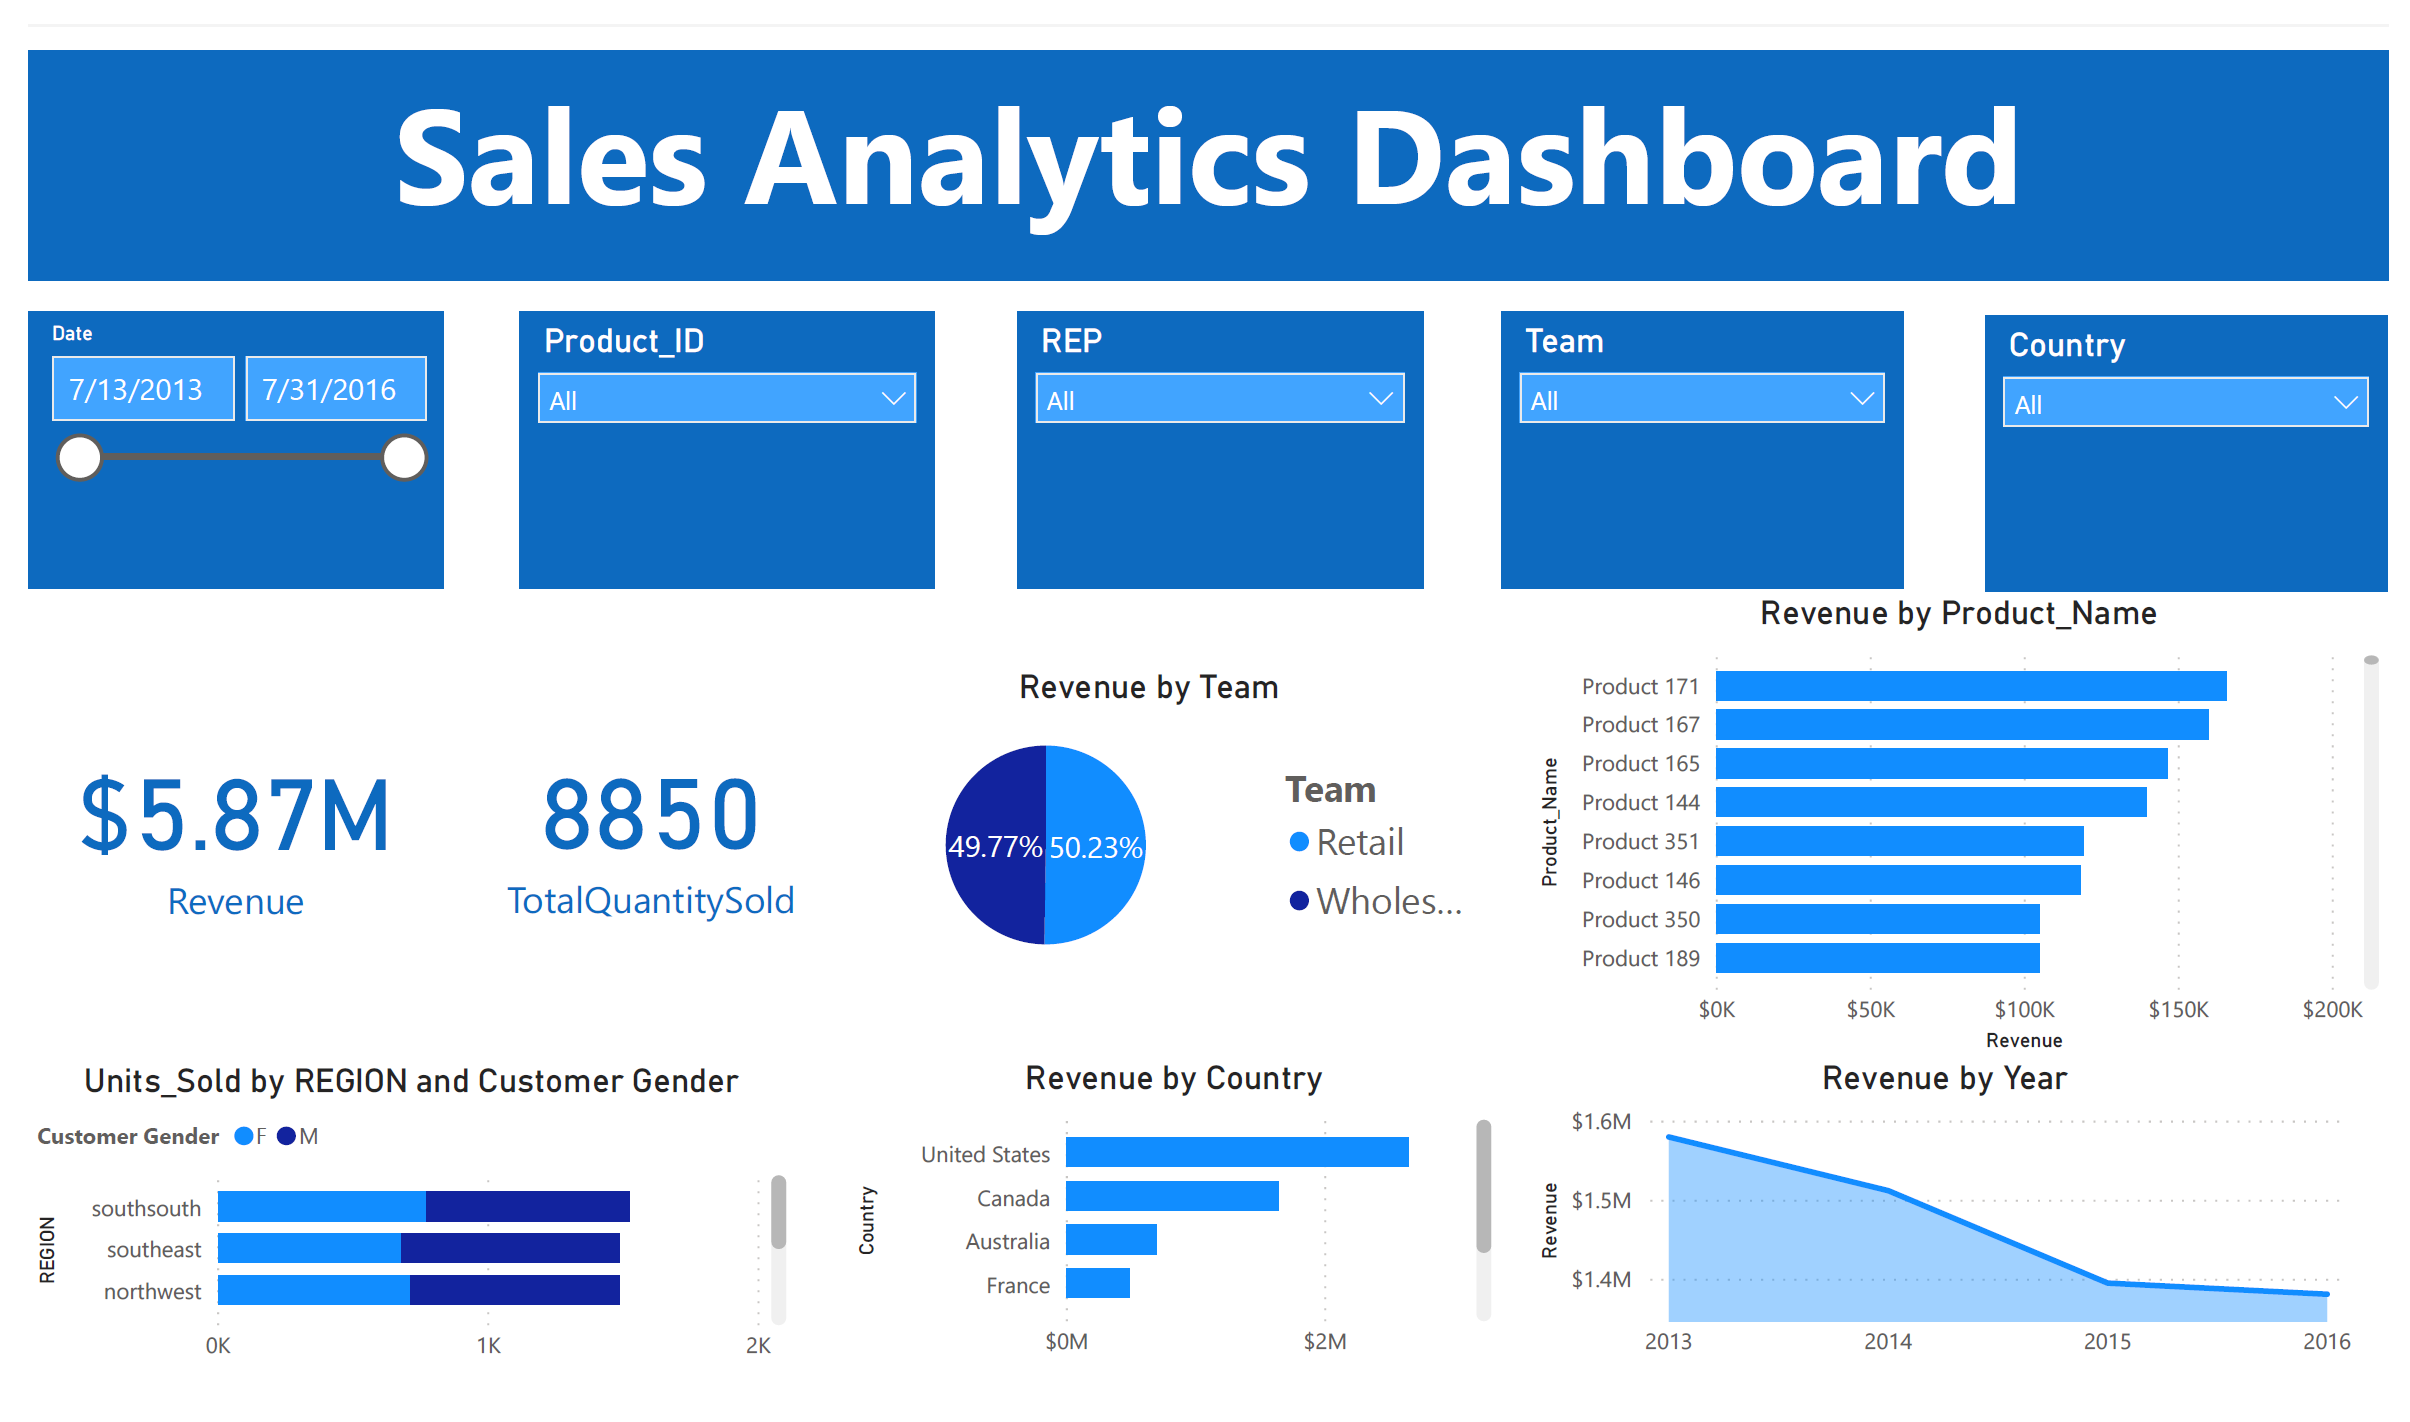

This screenshot's page, from the dashboard's own definition file:
{"tool":"powerbi","page":{"name":"Page 1","canvas":[1280,720],"ordinal":0},"visuals":[{"type":"textbox","box":[0,0,1280,124.6],"z":0},{"type":"slicer","fields":{"Values":["Product.Date"]},"box":[0,142.1,225.5,149.8],"z":1000},{"type":"slicer","fields":{"Values":["Product.Product_ID"]},"box":[266.1,142.1,225.5,149.8],"z":2000},{"type":"slicer","fields":{"Values":["Sales_rep.REP"]},"box":[536.4,142.1,219.9,149.8],"z":3000},{"type":"slicer","fields":{"Values":["Sales_rep.Team"]},"box":[798.2,142.1,218.5,149.8],"z":4000},{"type":"slicer","fields":{"Values":["Customer.Country"]},"box":[1061.5,143.5,218.5,149.8],"z":5000},{"type":"card","fields":{"Values":["Sum(Sales.Revenue)"]},"box":[0,345.9,225.3,150.2],"z":6000},{"type":"card","fields":{"Values":["Sales.TotalQuantitySold"]},"box":[225.3,344.9,225.3,151.3],"z":7000},{"type":"pieChart","fields":{"Y":["Sum(Sales.Revenue)"],"Category":["Sales_rep.Team"]},"box":[416.8,334.3,381.9,172.4],"z":8000},{"type":"barChart","fields":{"Y":["Sum(Sales.Revenue)"],"Category":["Sales.Product_Name"]},"box":[815.1,294.1,464.9,253.5],"z":9000},{"type":"areaChart","fields":{"Y":["Sum(Sales.Revenue)"],"Category":["Product.Date.Variation.Date Hierarchy.Year","Product.Date.Variation.Date Hierarchy.Month"]},"box":[815.1,546.2,449.5,172.3],"z":10000},{"type":"barChart","fields":{"Y":["Sum(Sales.Units_Sold)"],"Category":["Sales.REGION "],"Series":["Customer.Customer Gender"]},"box":[0,547.6,415.9,172.3],"z":11000},{"type":"barChart","fields":{"Y":["Sum(Sales.Revenue)"],"Category":["Customer.Country"]},"box":[443.9,546.2,354.3,172.3],"z":12000}]}

Visuals, with their boxes in screenshot pixels (x1, y1, x2, y2):
textbox: 19,44,2396,275
slicer - Product.Date: 19,308,438,586
slicer - Product.Product_ID: 513,308,932,586
slicer - Sales_rep.REP: 1015,308,1423,586
slicer - Sales_rep.Team: 1501,308,1907,586
slicer - Customer.Country: 1990,310,2396,589
card - Sum(Sales.Revenue): 19,686,437,965
card - Sales.TotalQuantitySold: 437,684,855,965
pieChart - Sum(Sales.Revenue) x Sales_rep.Team: 793,665,1502,985
barChart - Sum(Sales.Revenue) x Sales.Product_Name: 1532,590,2396,1061
areaChart - Sum(Sales.Revenue) x Product.Date.Variation.Date Hierarchy.Year: 1532,1058,2367,1378
barChart - Sum(Sales.Units_Sold) x Sales.REGION : 19,1061,791,1381
barChart - Sum(Sales.Revenue) x Customer.Country: 843,1058,1501,1378
